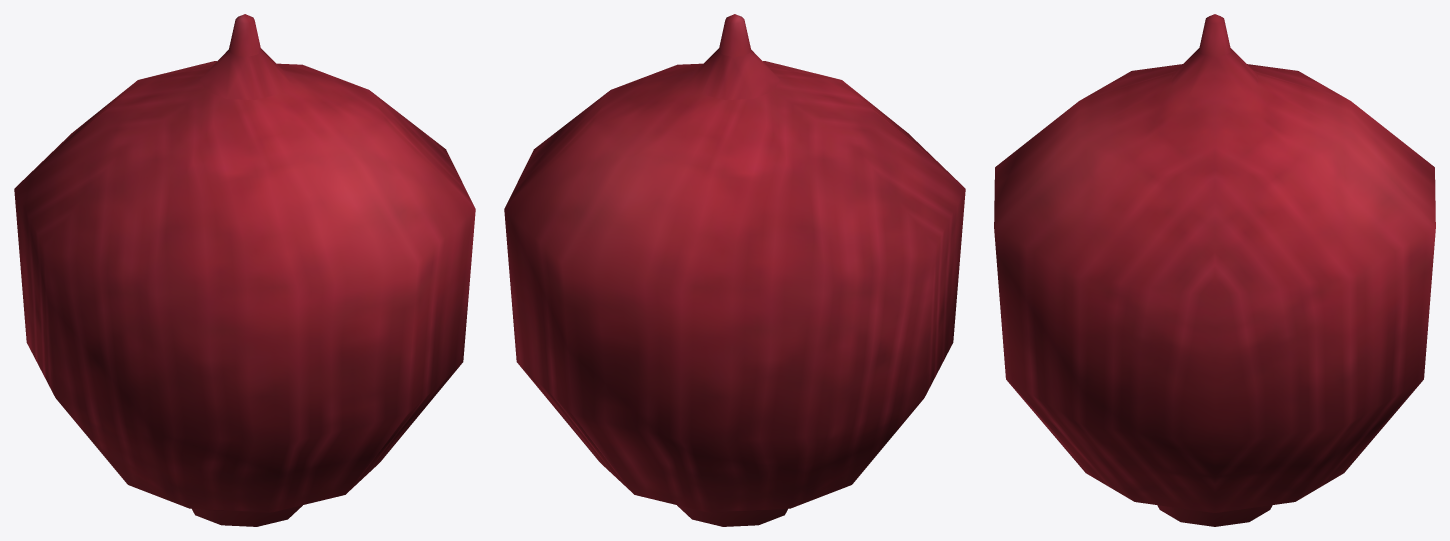
Rendered from Onion_1.fbx.
3 views of the same model, side by side, from view 1: azimuth 30°, elevation 25°; view 2: azimuth 150°, elevation 25°; view 3: azimuth 270°, elevation 25° (orthographic).
Visible parts, largest first — view 1: Onion_1; view 2: Onion_1; view 3: Onion_1.
Part boxes in pixels (bbox=[...]): Onion_1: bbox=[14, 14, 475, 526]; Onion_1: bbox=[504, 14, 965, 526]; Onion_1: bbox=[994, 14, 1435, 526].
Size of the model in its own units: 162 by 197 by 155.
